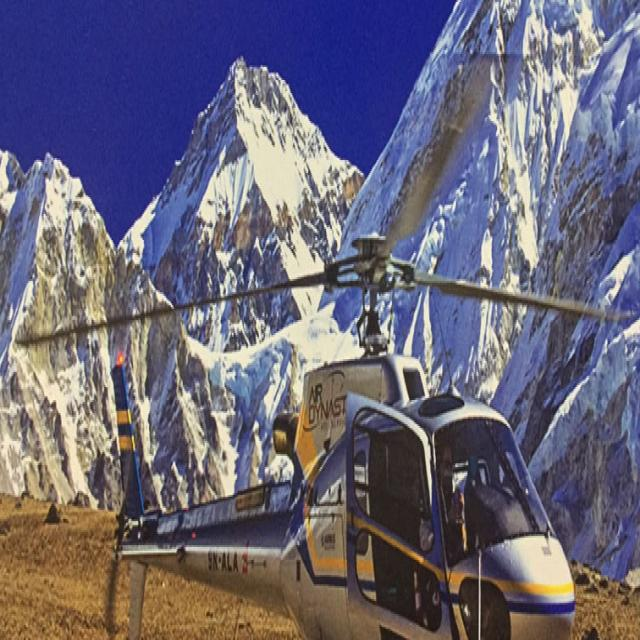helicopter: (62, 217, 614, 640)
